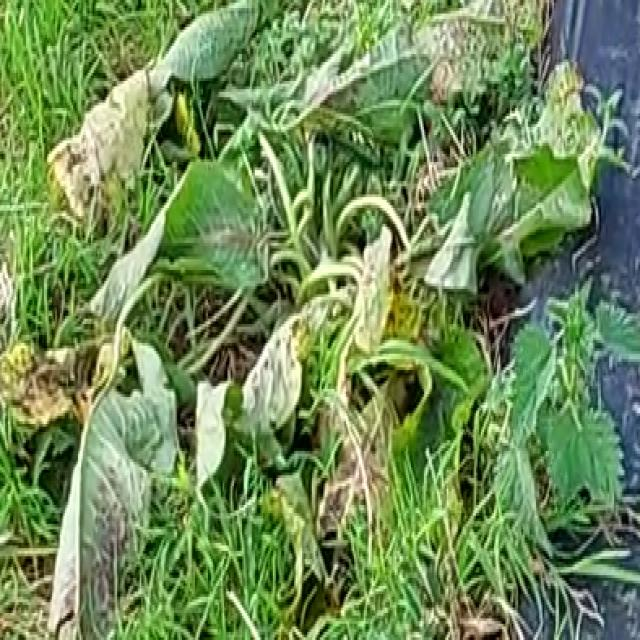organic waste: (53, 11, 600, 610)
